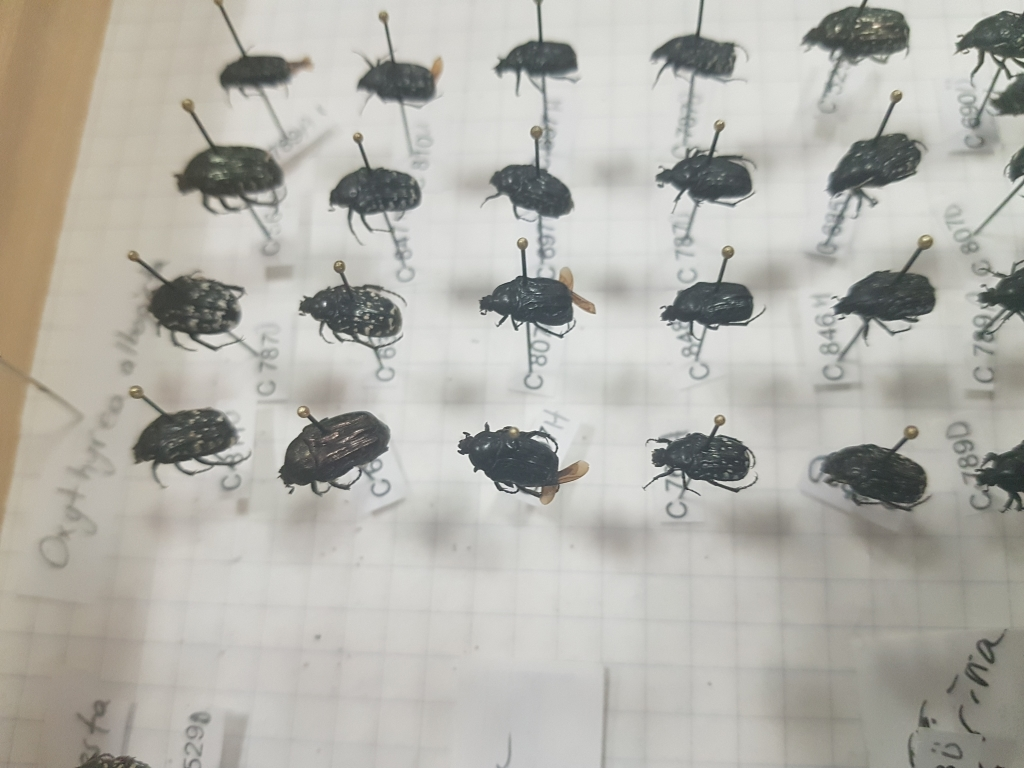Oxythyrea_albopicta: (263, 404, 394, 501), (298, 279, 411, 359)
